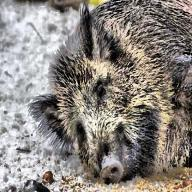boar: (18, 0, 192, 185)
